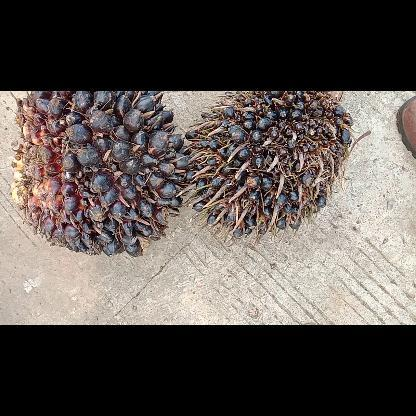TBS mentah: (9, 91, 191, 261), (182, 90, 356, 240)
